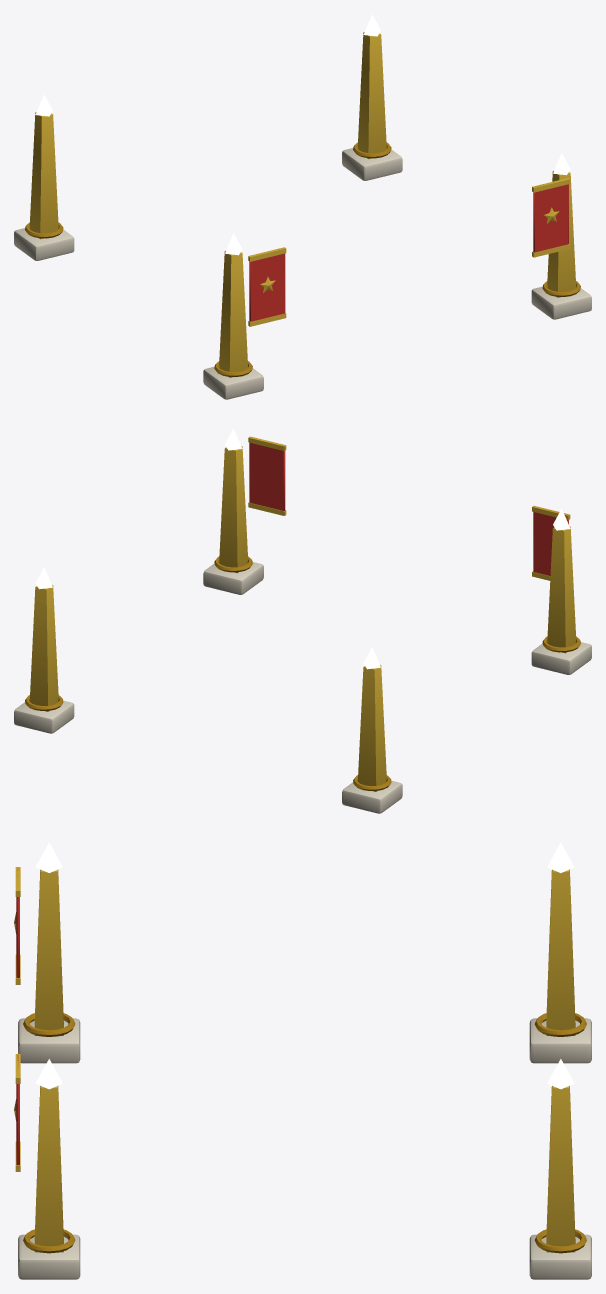
Rendered from lo_bskin_goldpalast.glb.
The picture shows the model from 3 angles, top to bottom: view 1: azimuth 30°, elevation 25°; view 2: azimuth 150°, elevation 25°; view 3: azimuth 270°, elevation 25°; orthographic projection. The views are drawn at different scales.
Visible parts, largest first — view 1: body, sway_banner_0, sway_banner_1, pulse_tip_glow; view 2: body, sway_banner_1, sway_banner_0, pulse_tip_glow; view 3: body, pulse_tip_glow, sway_banner_0, sway_banner_1.
Part boxes in pixels (x1,y1,x2,y2): body: [14, 32, 591, 399]; sway_banner_0: [248, 247, 286, 326]; sway_banner_1: [532, 178, 570, 257]; pulse_tip_glow: [35, 14, 570, 255]; body: [14, 446, 591, 813]; sway_banner_1: [248, 436, 286, 515]; sway_banner_0: [532, 505, 570, 580]; pulse_tip_glow: [35, 428, 570, 669]; body: [18, 869, 591, 1279]; pulse_tip_glow: [35, 842, 574, 1089]; sway_banner_0: [14, 867, 20, 984]; sway_banner_1: [14, 1054, 20, 1171].
Bounding box in the file's own units: 8.3 × 3.35 × 8.36.
